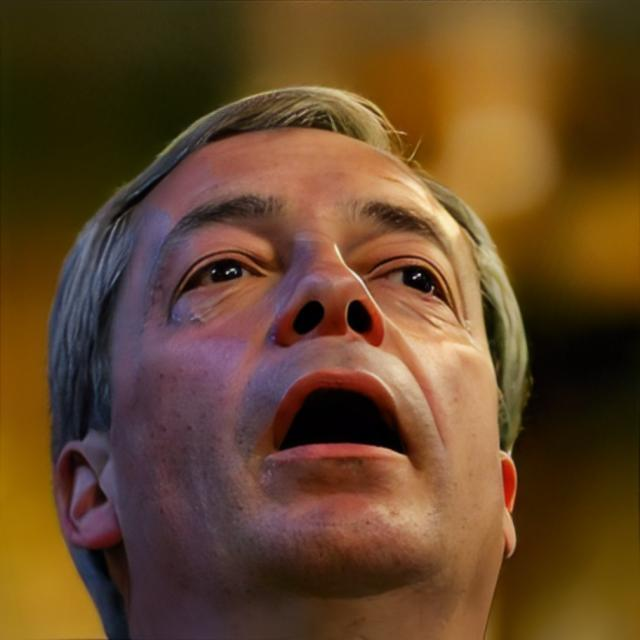surprise: (112, 124, 500, 616)
